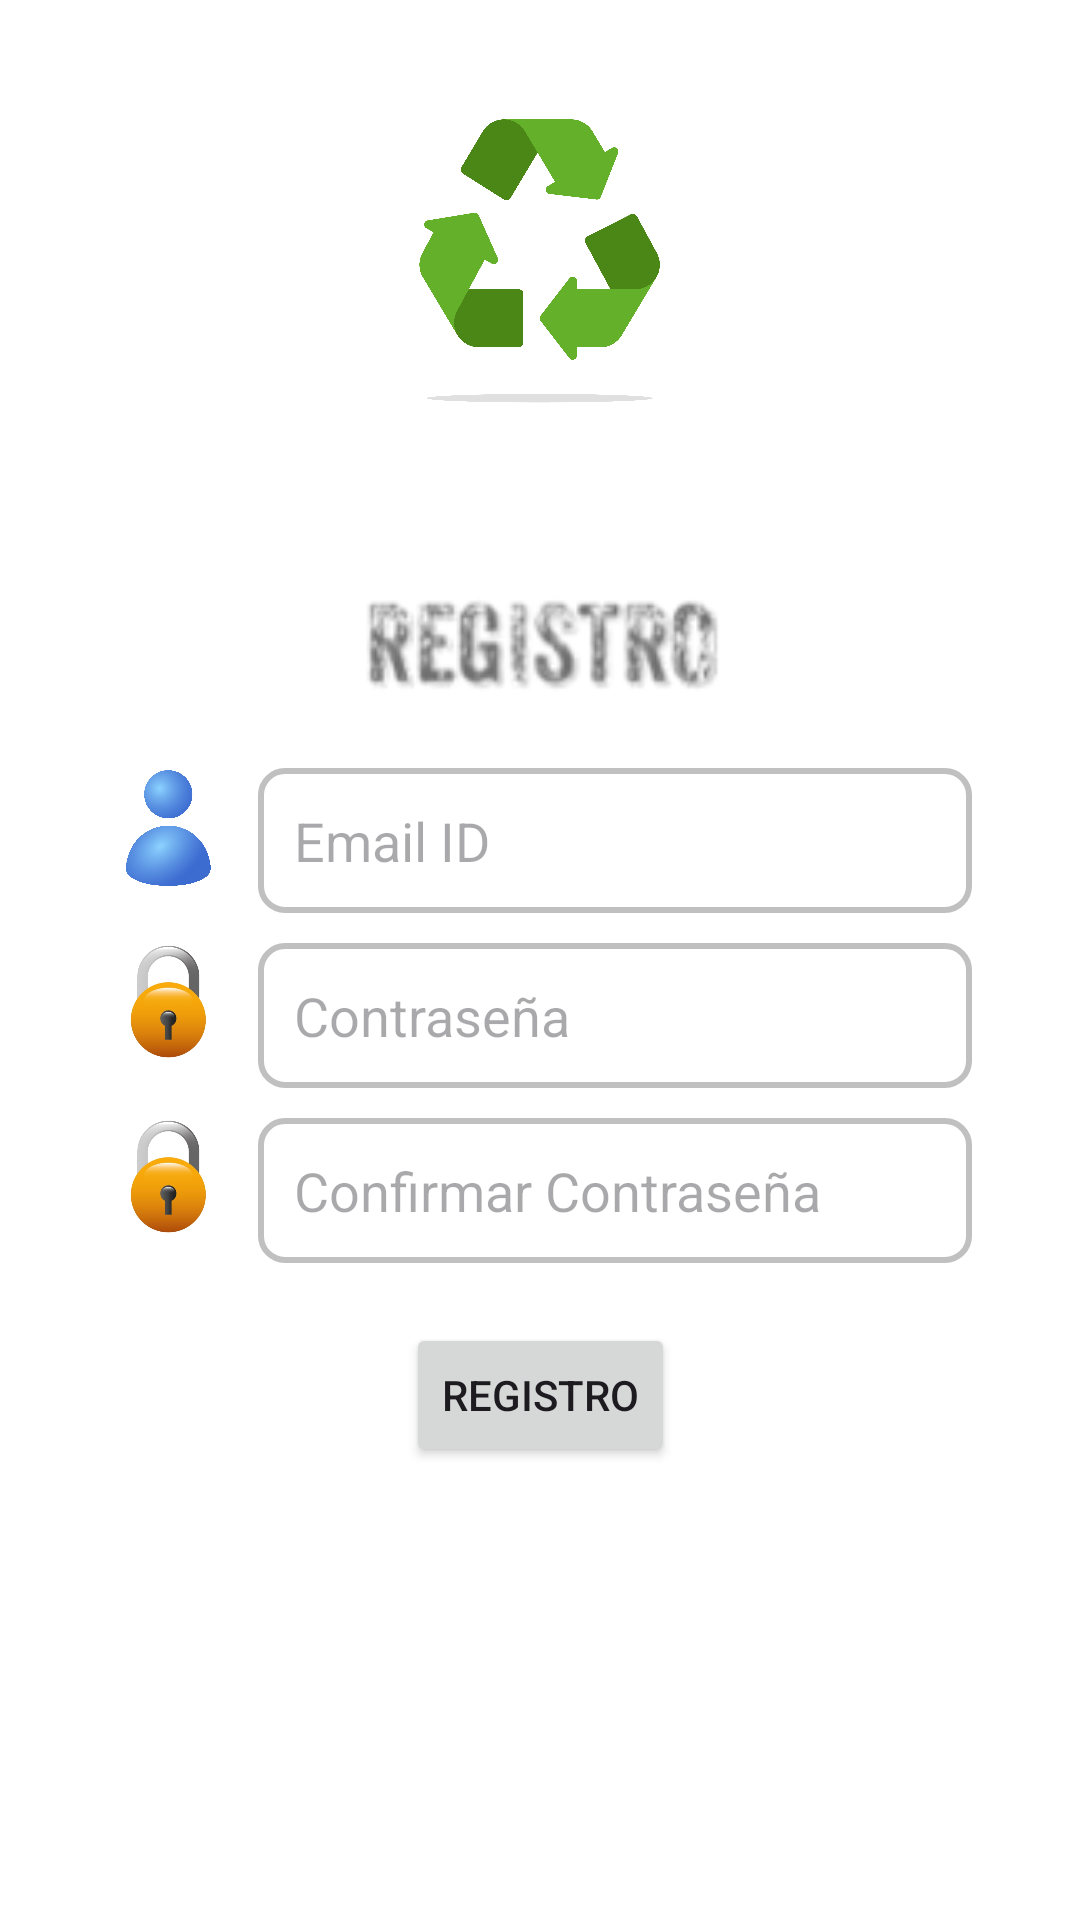

Named icons in this screenshot (1080 x 1920) and their centers, point (x, y):
password: point (168, 1002), point (168, 1177)
